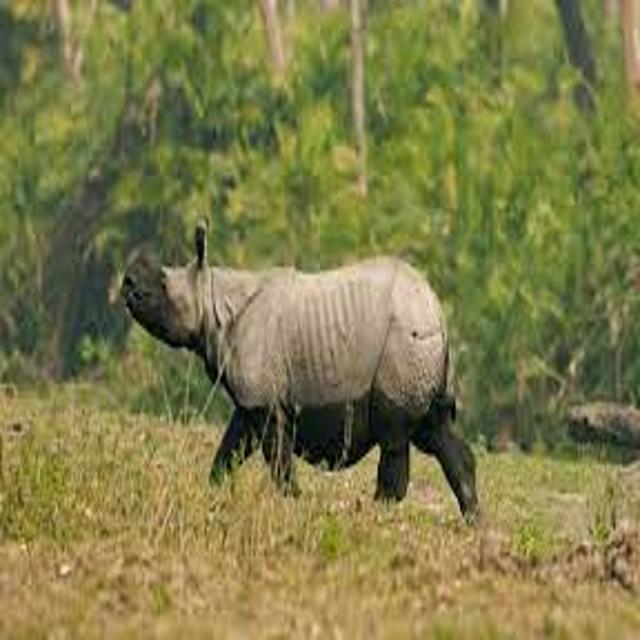rhino: (91, 190, 521, 549)
